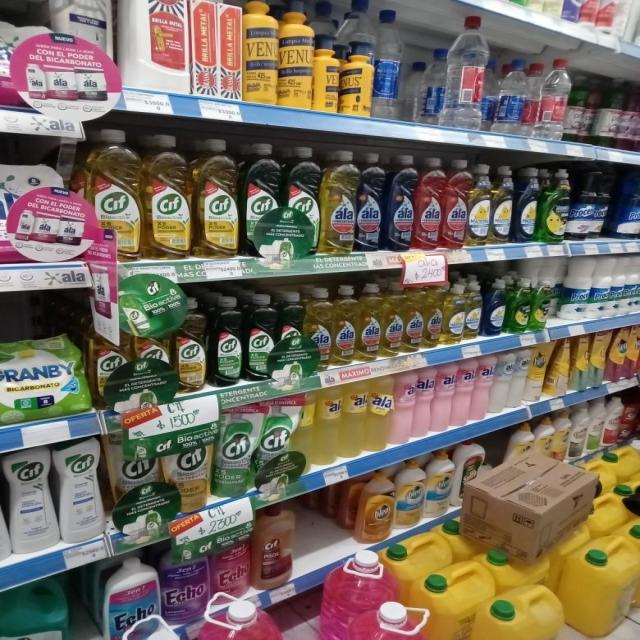ala_conc_amarillo: (321, 150, 356, 254), (304, 286, 332, 372), (332, 285, 356, 365), (357, 283, 381, 361), (381, 282, 403, 356), (404, 282, 423, 353), (423, 282, 442, 348)
ala_conc_azul: (357, 152, 385, 252), (386, 154, 414, 252)
ala_conc_rojo: (415, 156, 442, 250), (443, 158, 467, 249)
ala_crem_amarillo: (312, 384, 339, 465), (366, 374, 391, 452), (341, 378, 365, 458)
ala_crem_blanco: (492, 352, 512, 412), (527, 345, 546, 404), (512, 350, 527, 408)
ala_crem_rosado: (433, 363, 454, 432), (414, 367, 432, 437)
cif_conc_bot_amarilla: (89, 129, 142, 262), (144, 133, 191, 260), (194, 138, 239, 259), (175, 297, 208, 393)
cif_conc_botella_verde: (242, 142, 280, 258), (282, 146, 319, 258), (209, 294, 242, 387), (244, 293, 275, 381), (276, 292, 304, 380)
cif_conc_sachet_amarillo: (167, 417, 210, 512)
cif_conc_sachet_verde: (110, 428, 166, 534), (257, 397, 301, 488), (214, 405, 254, 497)
magistral_con_amarillo: (468, 164, 490, 246), (491, 164, 513, 244), (443, 282, 464, 344), (465, 280, 482, 340)
magistral_con_azul: (514, 166, 538, 243), (484, 278, 506, 337)
